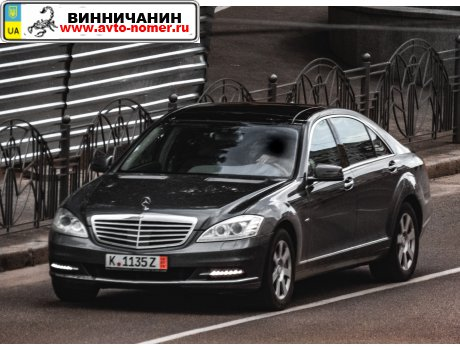License Plates: (106, 254, 158, 264)
